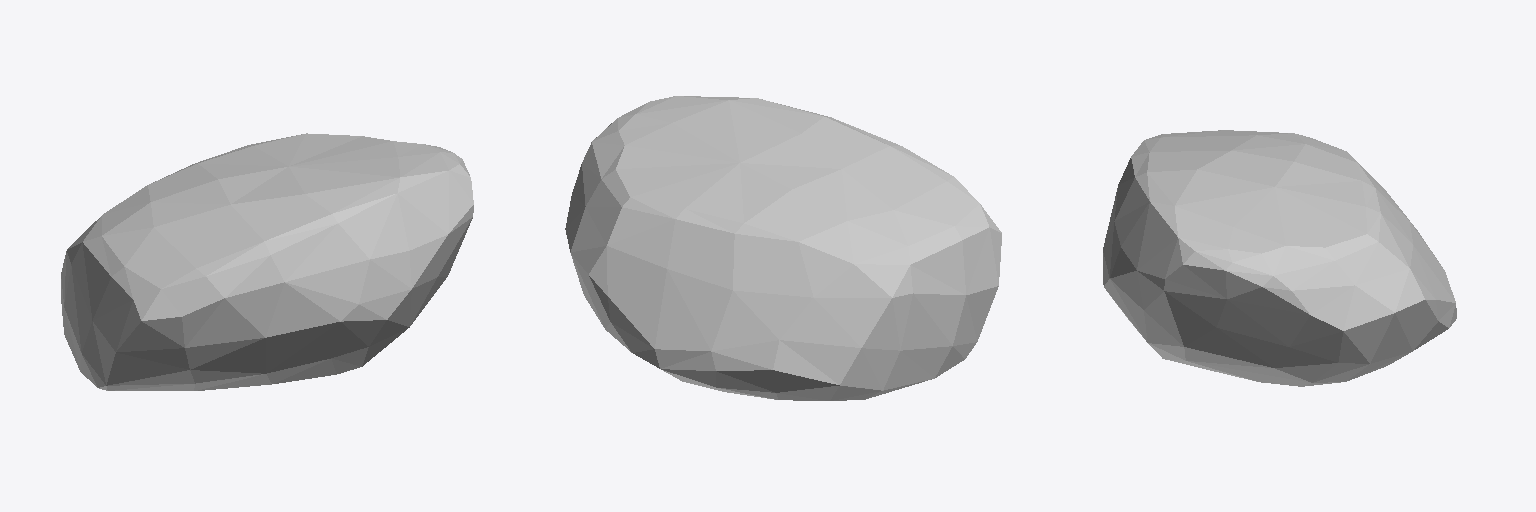
Rendered from Rocks_04.obj.
The picture shows the model from 3 angles: view 1: azimuth 30°, elevation 25°; view 2: azimuth 150°, elevation 25°; view 3: azimuth 270°, elevation 25°; orthographic projection.
Visible parts, largest first — view 1: Rock04_LP.001; view 2: Rock04_LP.001; view 3: Rock04_LP.001.
Boxes of the visible parts, box(x1,y1,x2,y2) form: Rock04_LP.001: box(61, 133, 473, 390); Rock04_LP.001: box(565, 96, 1001, 400); Rock04_LP.001: box(1103, 130, 1456, 386).
Bounding box in the file's own units: 37.87 × 18.48 × 31.35.